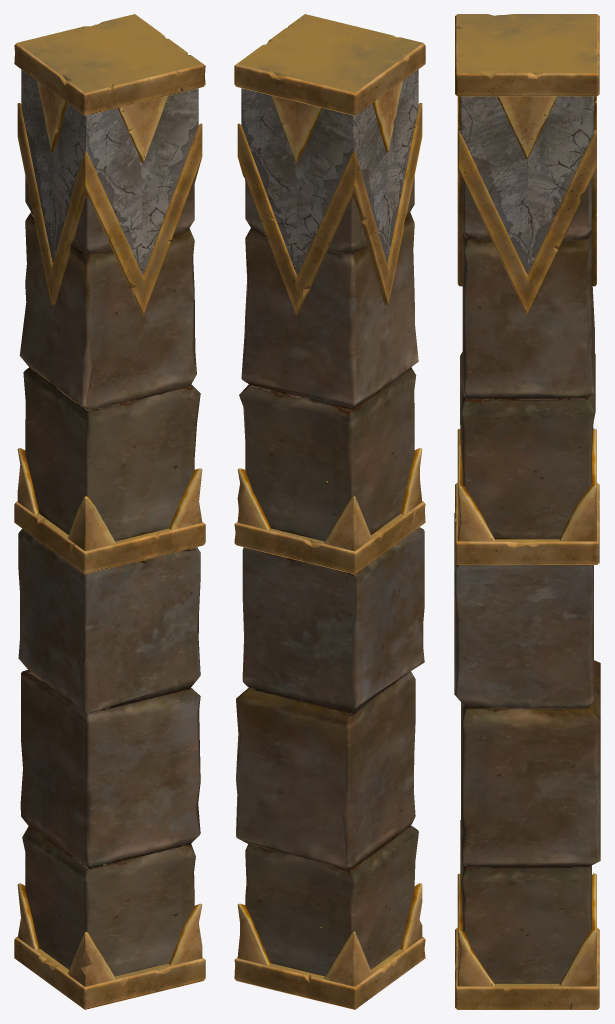
3 renders of one model, left to right at view 1: azimuth 30°, elevation 25°; view 2: azimuth 150°, elevation 25°; view 3: azimuth 270°, elevation 25°, orthographic. The views are drawn at different scales.
Visible parts, largest first — view 1: SM_Vault_8m_Column_01_V3_LOD0; view 2: SM_Vault_8m_Column_01_V3_LOD0; view 3: SM_Vault_8m_Column_01_V3_LOD0.
Part boxes in pixels (x1,y1,x2,y2): SM_Vault_8m_Column_01_V3_LOD0: [14, 14, 205, 1009]; SM_Vault_8m_Column_01_V3_LOD0: [234, 14, 425, 1009]; SM_Vault_8m_Column_01_V3_LOD0: [454, 14, 600, 1009].
Bounding box in the file's own units: 1.12 × 8 × 1.13.
4 materials, 4 textured.
